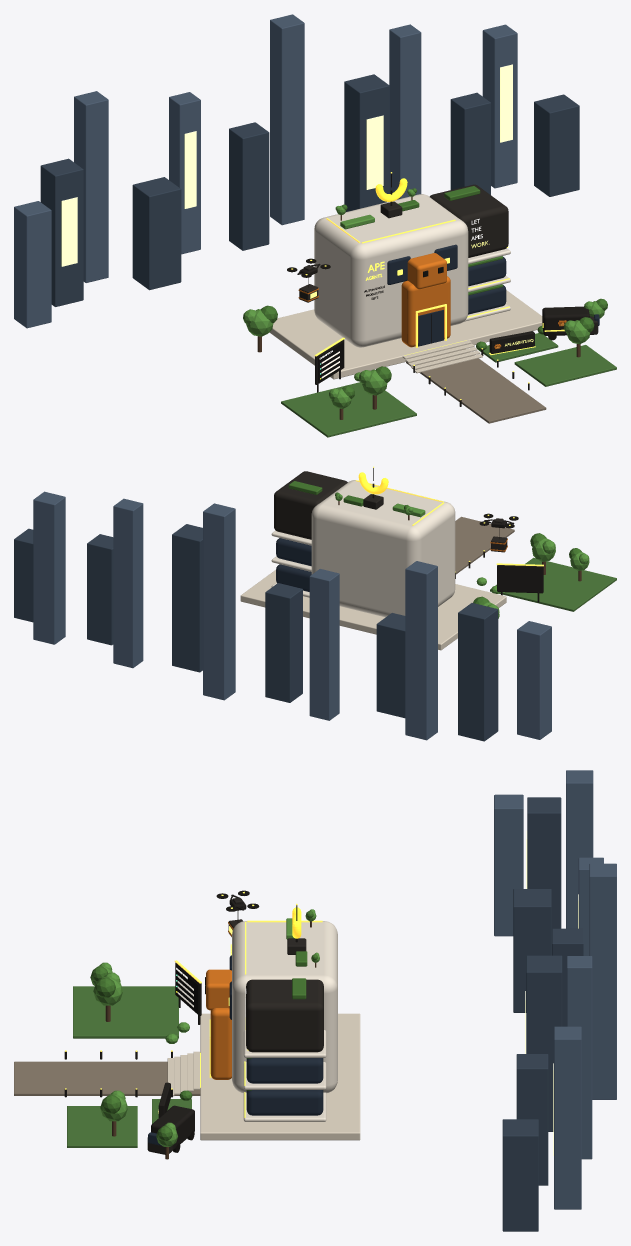
Rendered from apeworks-exterior.glb.
3 renders of one model, top to bottom at view 1: azimuth 30°, elevation 25°; view 2: azimuth 150°, elevation 25°; view 3: azimuth 270°, elevation 25°, orthographic. The views are drawn at different scales.
Visible parts, largest first — view 1: HEAD_BODY, SKY_TWR_6, TERRACE, SKY_TWR_2, SKY_TWR_8, SKY_TWR_3, SKY_TWR_5, SKY_TWR_7, SKY_TWR_12, SKY_TWR_11, WALKWAY, SKY_TWR_1 (+19 smaller); view 2: HEAD_BODY, SKY_TWR_6, SKY_TWR_2, SKY_TWR_1, SKY_TWR_8, SKY_TWR_10, SKY_TWR_4, SKY_TWR_7, SKY_TWR_5, SKY_TWR_12, TERRACE, SKY_TWR_3 (+8 smaller); view 3: TERRACE, HEAD_BODY, SKY_TWR_6, WING_TOP, WALKWAY, SKY_TWR_10, LAWN_L, SKY_TWR_11, SKY_TWR_7, SKY_TWR_12, SKY_TWR_1, SKY_TWR_8 (+14 smaller).
Part boxes in pixels (x1,y1,x2,y2): HEAD_BODY: [314, 194, 468, 347]; SKY_TWR_6: [270, 14, 304, 225]; TERRACE: [269, 290, 542, 379]; SKY_TWR_2: [74, 91, 108, 282]; SKY_TWR_8: [389, 24, 421, 199]; SKY_TWR_3: [132, 177, 181, 290]; SKY_TWR_5: [229, 122, 269, 250]; SKY_TWR_7: [344, 74, 389, 211]; SKY_TWR_12: [14, 201, 51, 328]; SKY_TWR_11: [534, 94, 579, 196]; WALKWAY: [406, 349, 546, 423]; SKY_TWR_1: [40, 158, 83, 306]; HEAD_BODY: [311, 480, 455, 617]; SKY_TWR_6: [203, 503, 235, 700]; SKY_TWR_2: [405, 561, 437, 740]; SKY_TWR_1: [458, 603, 498, 741]; SKY_TWR_8: [113, 498, 143, 668]; SKY_TWR_10: [33, 491, 65, 644]; SKY_TWR_4: [309, 569, 339, 720]; SKY_TWR_7: [172, 524, 202, 672]; SKY_TWR_5: [265, 583, 302, 702]; SKY_TWR_12: [517, 621, 551, 739]; TERRACE: [240, 570, 506, 650]; SKY_TWR_3: [376, 613, 405, 718]; TERRACE: [200, 1013, 360, 1140]; HEAD_BODY: [232, 921, 337, 1093]; SKY_TWR_6: [589, 863, 616, 1099]; WING_TOP: [246, 979, 323, 1052]; WALKWAY: [14, 1061, 200, 1095]; SKY_TWR_10: [554, 1026, 581, 1209]; LAWN_L: [73, 986, 178, 1038]; SKY_TWR_11: [502, 1119, 538, 1231]; SKY_TWR_7: [526, 955, 562, 1131]; SKY_TWR_12: [494, 794, 523, 936]; SKY_TWR_1: [527, 797, 561, 955]; SKY_TWR_8: [567, 956, 592, 1159].
Size of what is drawn, in the model's own units: 62.1 by 21.2 by 51.17.
